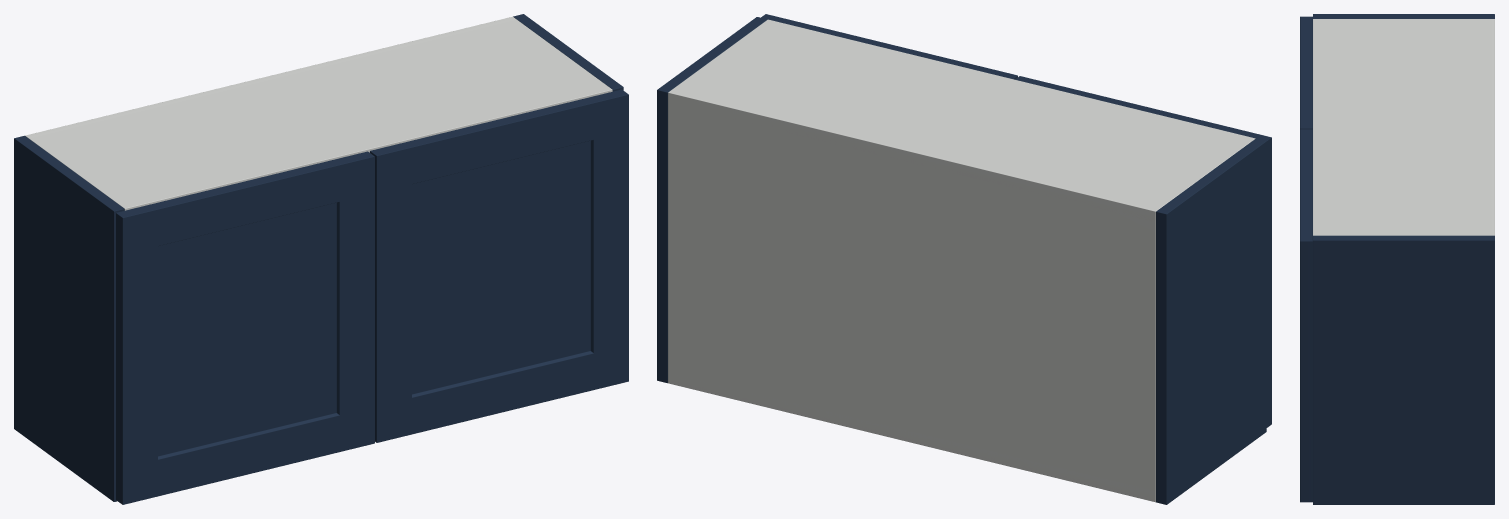
The model's file is oppein-pb-bss-w3318.glb.
The picture shows the model from 3 angles, left to right: view 1: azimuth 30°, elevation 25°; view 2: azimuth 150°, elevation 25°; view 3: azimuth 270°, elevation 25°; orthographic projection. The views are drawn at different scales.
Parts seen in each view (by area): view 1: Door, Door.001, Cabinet top, Cabinet side, Cabinet back, Cabinet side.001; view 2: Cabinet back, Cabinet top, Cabinet side, Cabinet side.001, Door, Cabinet bottom, Door.001; view 3: Cabinet side.001, Cabinet top, Door.001, Cabinet back, Door, Cabinet side.
Boxes of the visible parts, x1,y1,x2,y2 form: Door: (116,151,374,504); Door.001: (370,89,628,442); Cabinet top: (29,17,612,210); Cabinet side: (14,135,124,501); Cabinet back: (25,16,515,138); Cabinet side.001: (513,14,623,91); Cabinet back: (668,91,1158,502); Cabinet top: (668,19,1255,221); Cabinet side: (1156,138,1266,504); Cabinet side.001: (657,17,767,383); Door: (1015,76,1271,427); Cabinet bottom: (668,373,1155,501); Door.001: (761,14,1017,79); Cabinet side.001: (1313,235,1494,504); Cabinet top: (1313,19,1494,235); Door.001: (1300,129,1312,502); Cabinet back: (1487,19,1494,235); Door: (1300,16,1312,129); Cabinet side: (1313,14,1494,18).
Size of the model in its own units: 0.8382 by 0.4572 by 0.3048.
